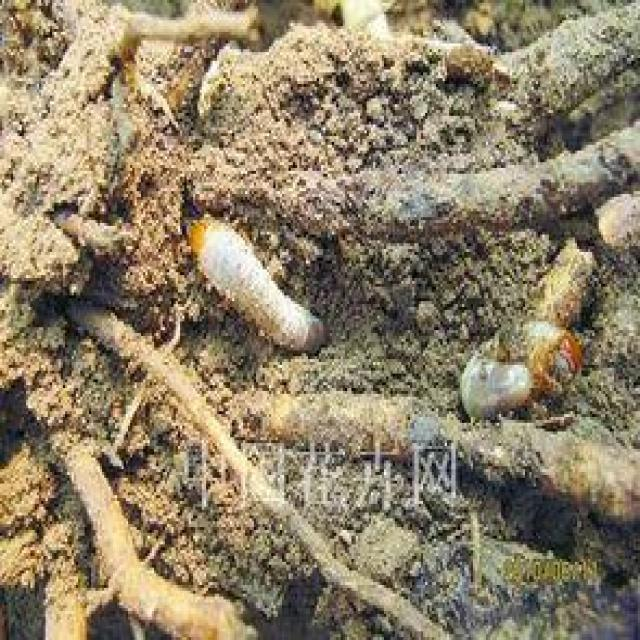Grub-Adult-: (168, 202, 346, 378), (452, 311, 600, 420)
